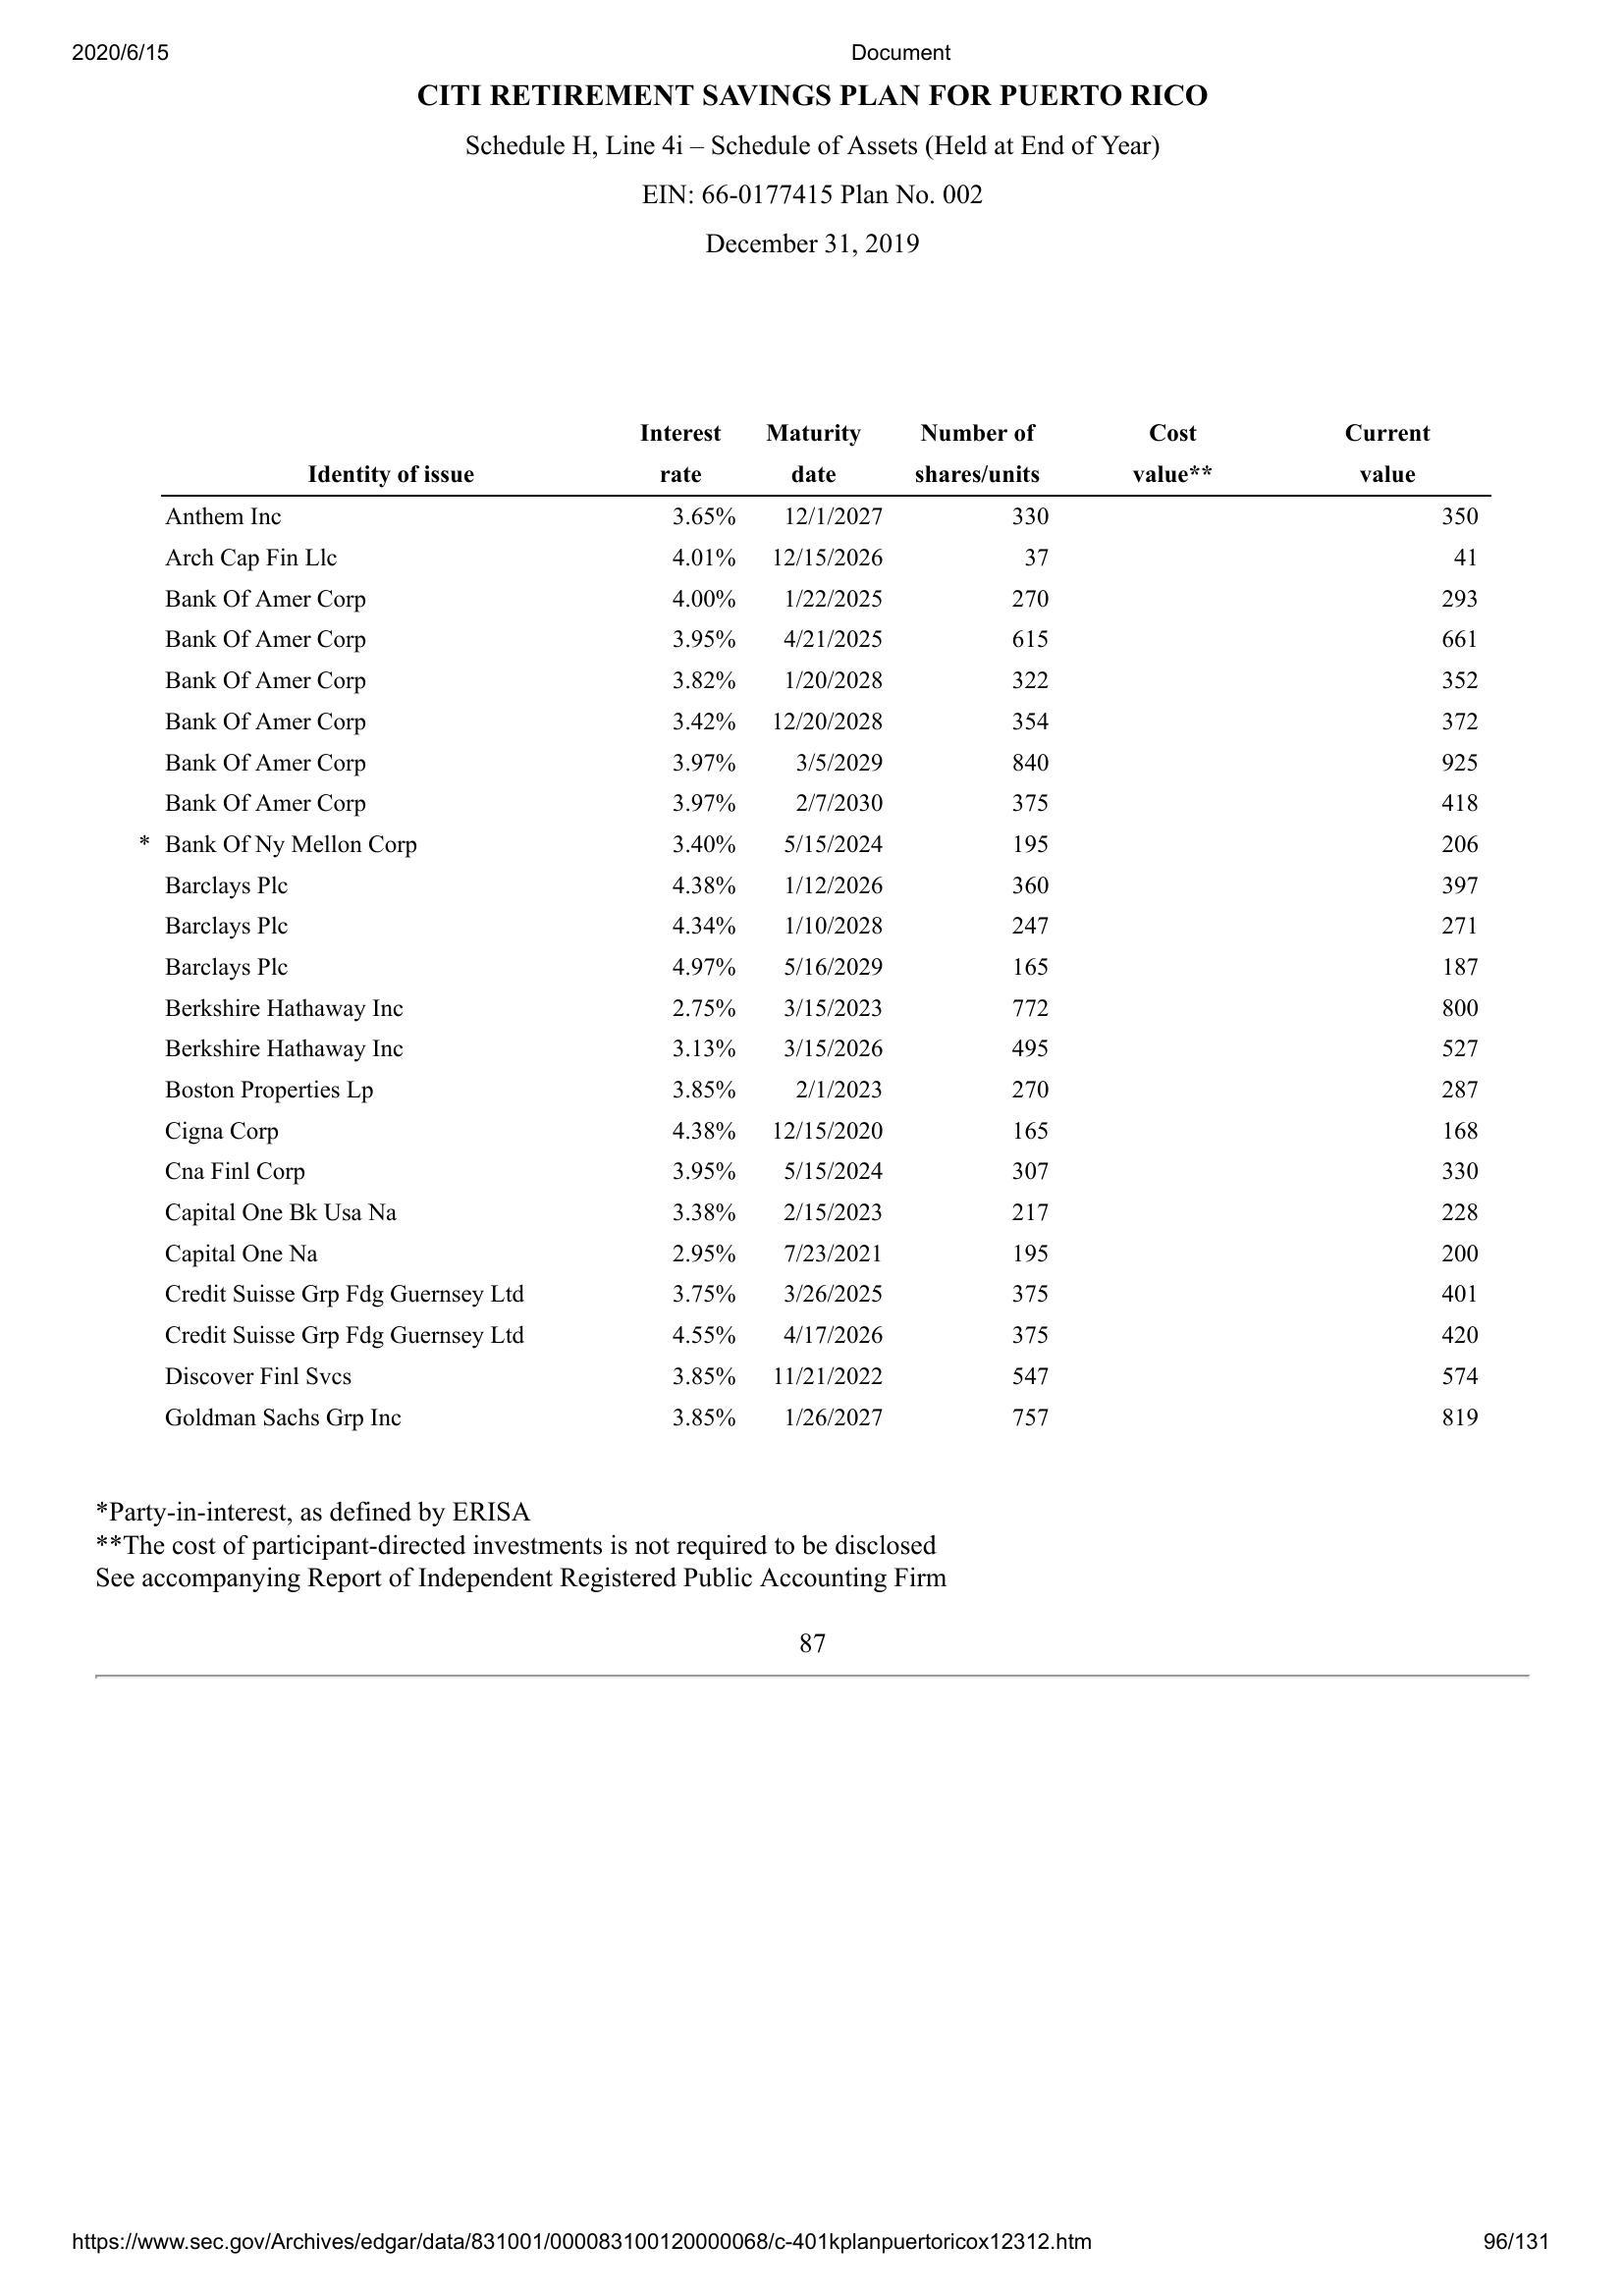table: (155, 423, 1493, 1436)
